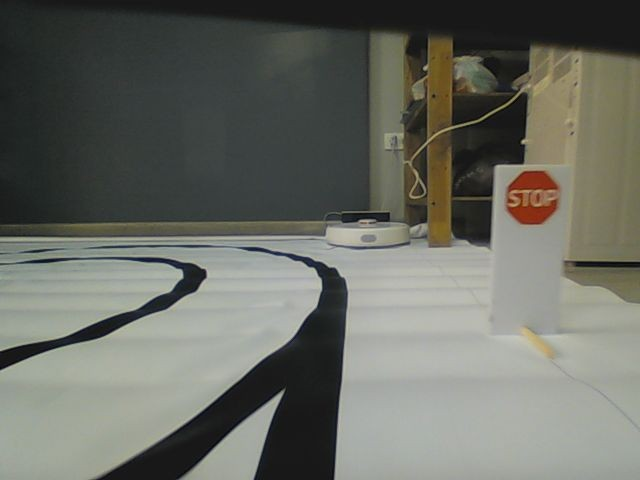Stop: (506, 169, 561, 225)
